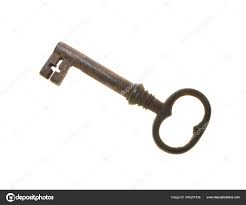key: (41, 39, 214, 155)
